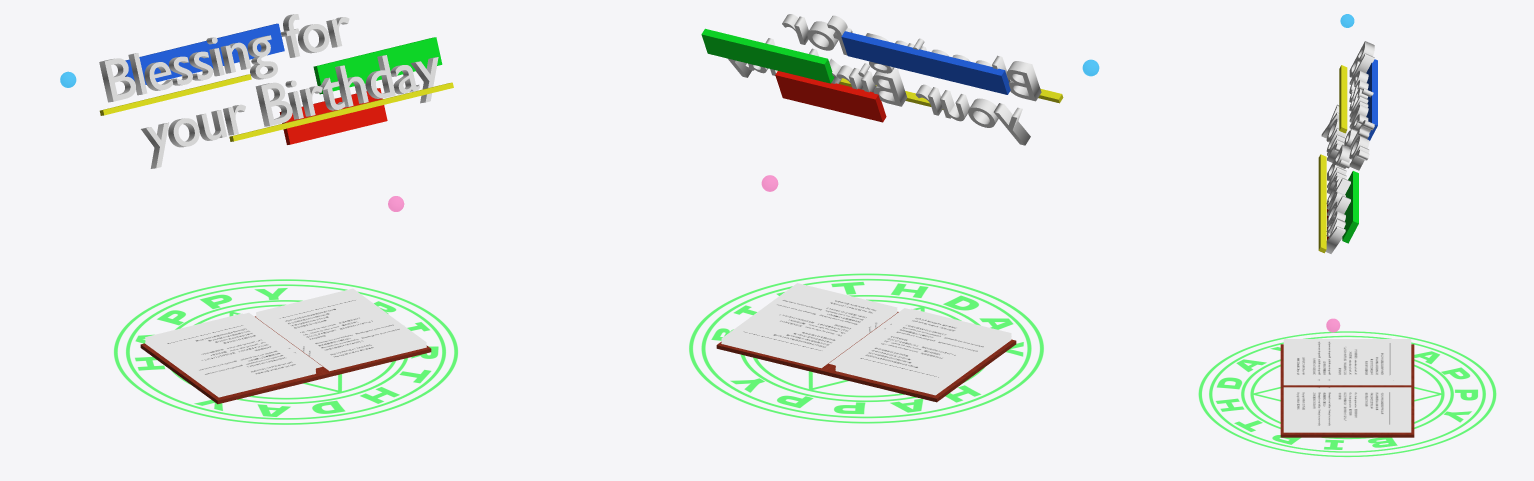
File: book.glb
3 renders of one model, left to right at view 1: azimuth 30°, elevation 25°; view 2: azimuth 150°, elevation 25°; view 3: azimuth 270°, elevation 25°, orthographic. The views are drawn at different scales.
Parts seen in each view (by area): view 1: テキスト, 平面.019, 平面.007, 平面.008, 立方体.003, 立方体.002, 立方体.004, 立方体.001, Cube.002, 立方体, Cube.001; view 2: 平面.019, テキスト, 平面.008, 平面.007, 立方体.002, 立方体.003, 立方体.004, Cube.002, Cube.001; view 3: 平面.019, 平面.007, 平面.008, テキスト, Cube.001, 立方体.001, 立方体.003, 立方体.002, Cube.002, 立方体, 平面.018.
Part boxes in pixels (x1,y1,x2,y2): テキスト: (99,14,438,168); 平面.019: (114,279,457,424); 平面.007: (256,288,426,366); 平面.008: (145,313,315,390); 立方体.003: (313,37,442,94); 立方体.002: (125,23,284,84); 立方体.004: (279,88,387,144); 立方体.001: (229,82,453,141); Cube.002: (140,343,317,404); 立方体: (99,74,251,115); Cube.001: (255,316,431,376); 平面.019: (689,273,1043,423); テキスト: (728,14,1041,145); 平面.008: (835,308,1011,388); 平面.007: (721,283,897,363); 立方体.002: (841,31,1010,94); 立方体.003: (701,28,834,83); 立方体.004: (775,71,886,122); Cube.002: (833,339,1016,402); Cube.001: (716,312,898,373); 平面.019: (1198,331,1496,456); 平面.007: (1283,387,1411,428); 平面.008: (1283,339,1411,379); テキスト: (1321,41,1374,253); Cube.001: (1280,392,1414,437); 立方体.001: (1318,154,1326,253); 立方体.003: (1342,171,1358,243); 立方体.002: (1366,59,1377,140); Cube.002: (1280,344,1414,386); 立方体: (1339,65,1347,133); 平面.018: (1283,380,1411,383).
Size of the model in its own units: 2.67 by 2.13 by 2.31.
11 materials, 4 textured.
